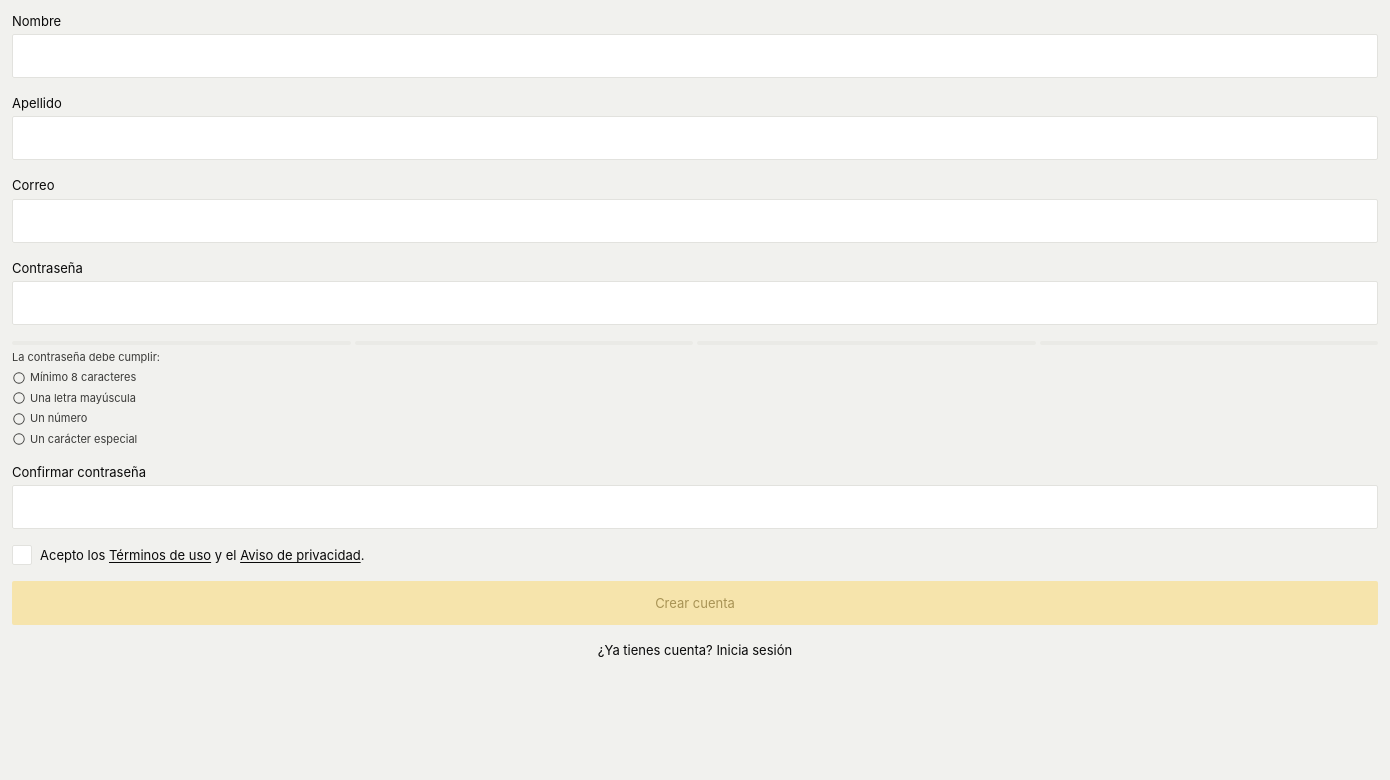
Test: CustomerRegisterForm › surfaces the backend's error message without switching to the verification screen
Type "Ada" into the field labelled "Nombre" at (695, 56), box [12,34,1378,78]
Type "Lovelace" into the field labelled "Apellido" at (695, 138), box [12,116,1378,160]
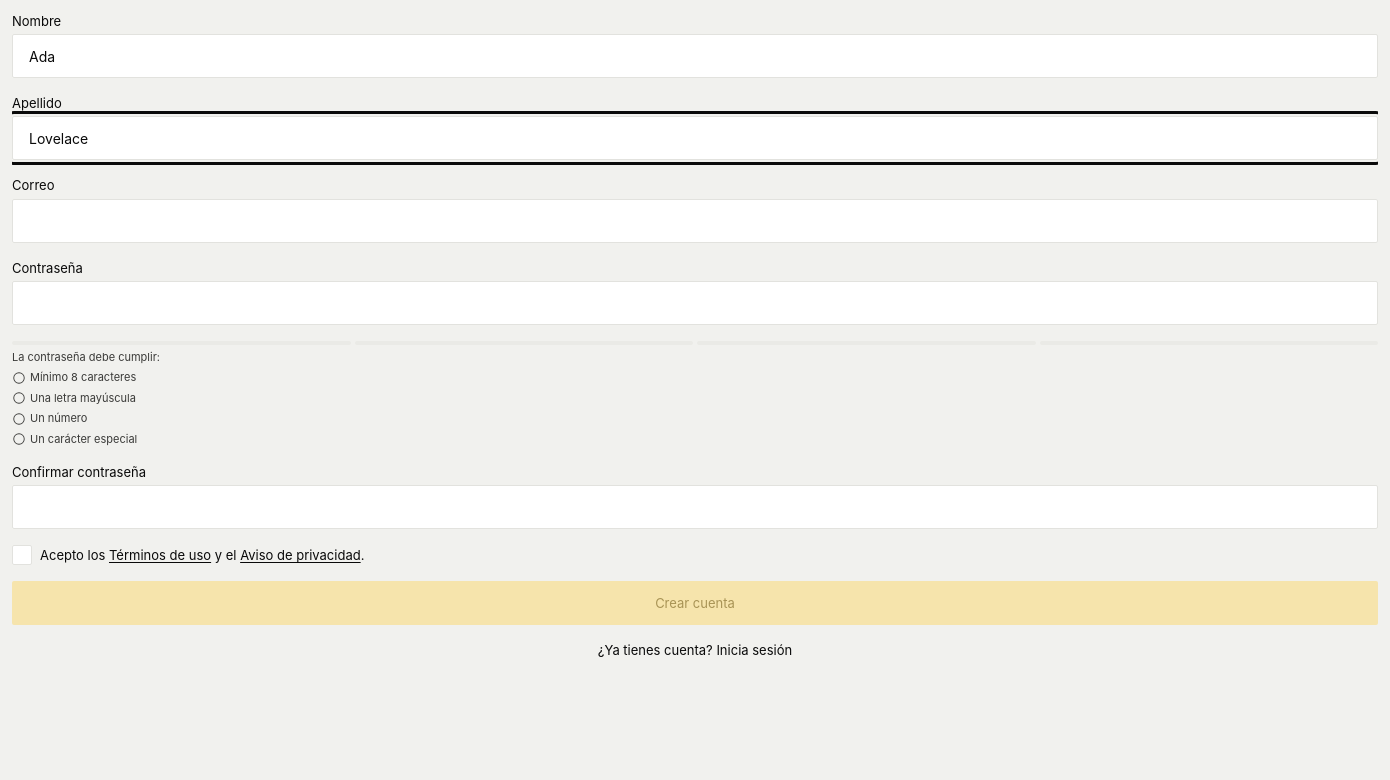
Type "ada@example.com" into the field labelled "Correo" at (695, 221), box [12,199,1378,243]
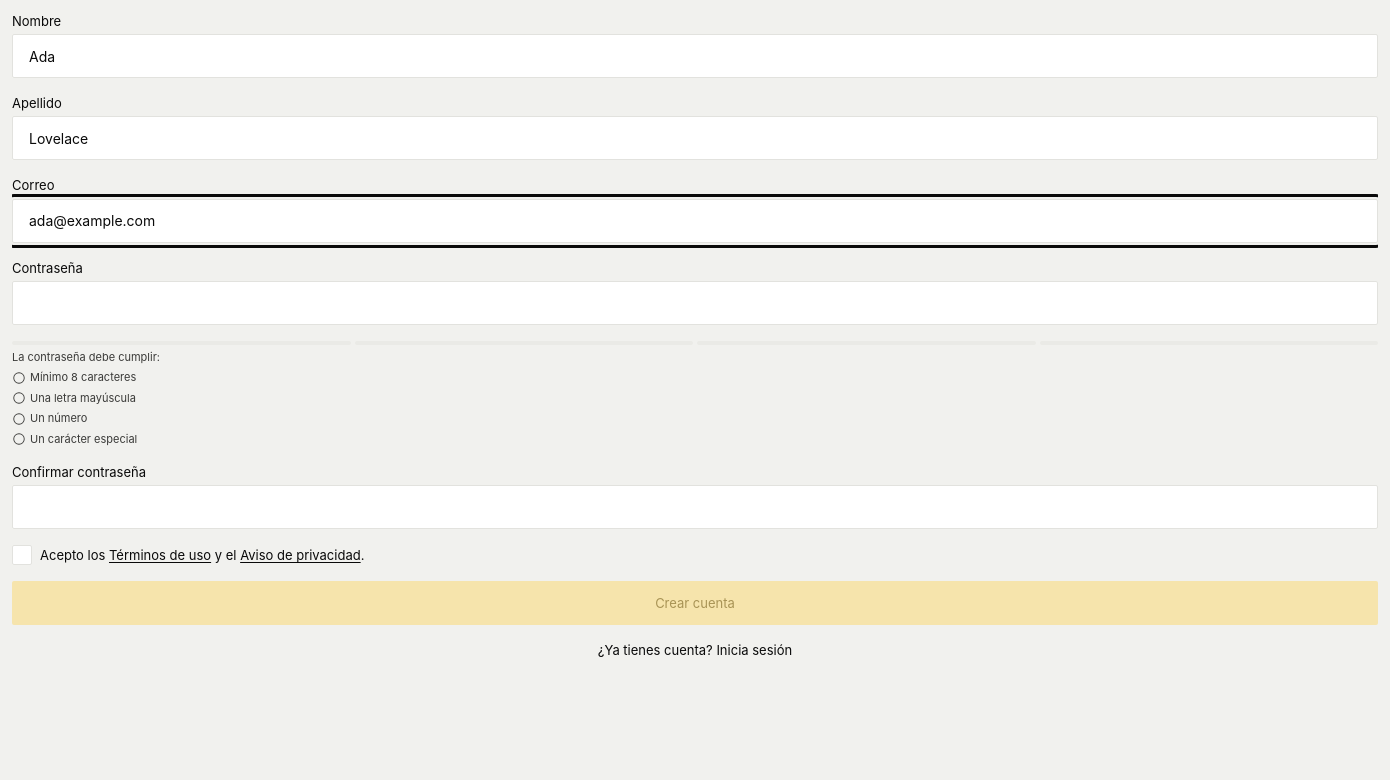
Type "Super-Secreta1" into the password field labelled "Contraseña" at (695, 303), box [12,281,1378,325]
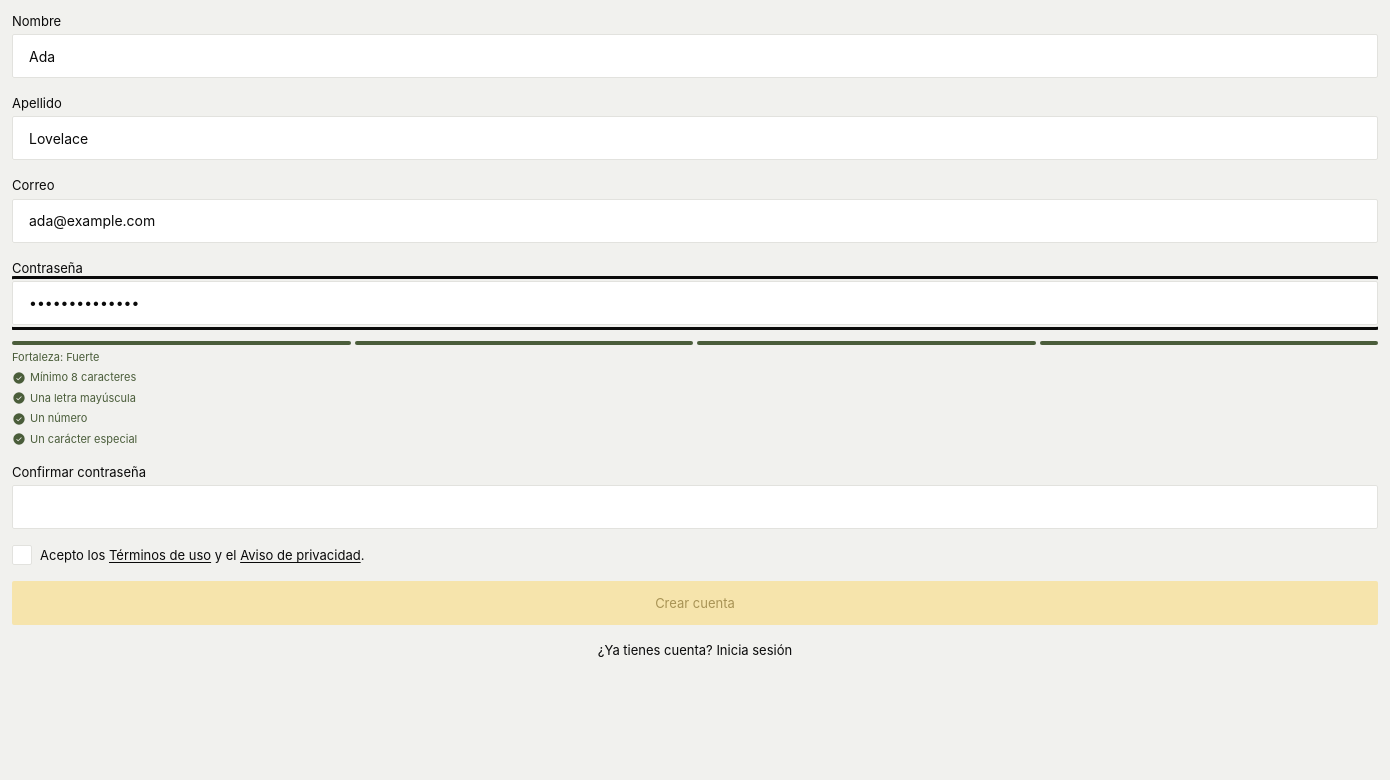
Type "Super-Secreta1" into the password field labelled "Confirmar contraseña" at (695, 507), box [12,485,1378,529]
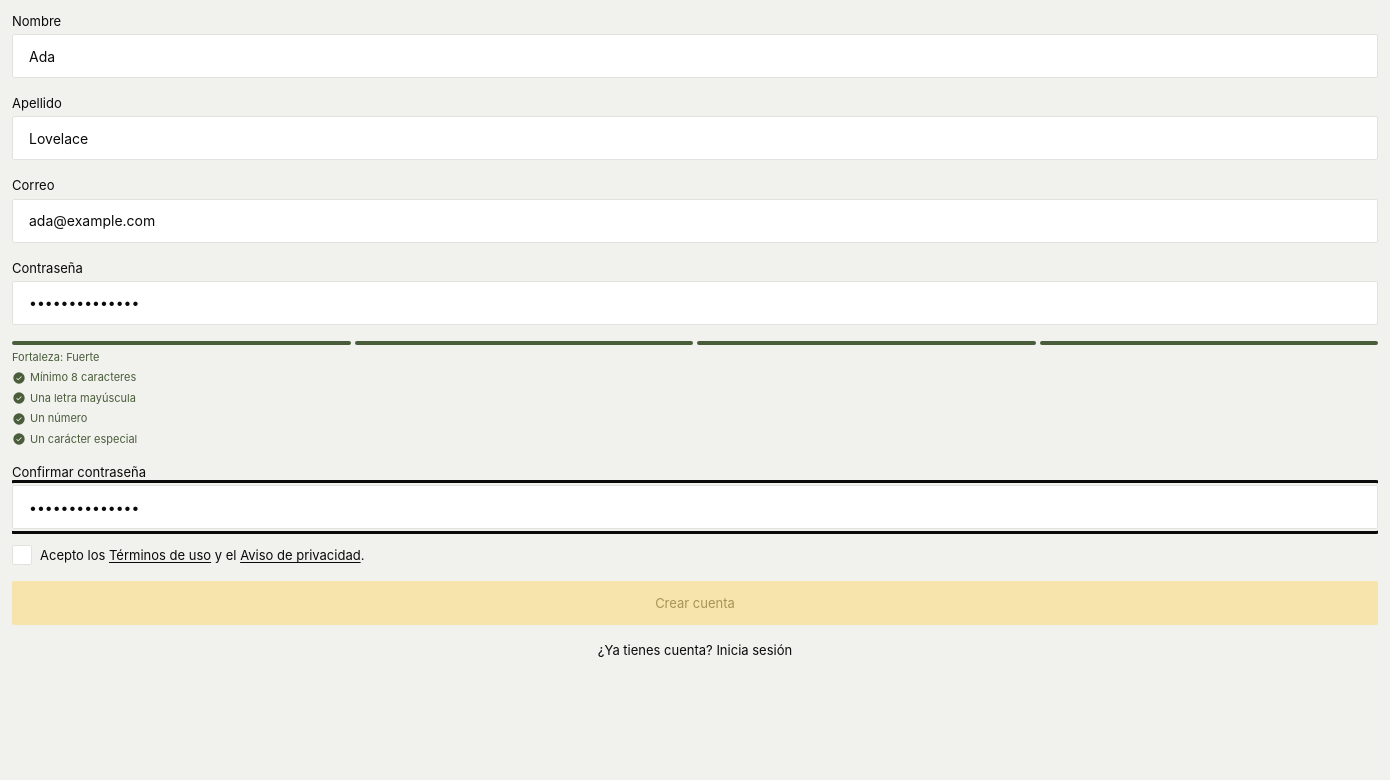
Click the checkbox labelled "Acepto los Términos de uso y el Aviso de privacidad ." at (188, 555), box [12,545,364,565]
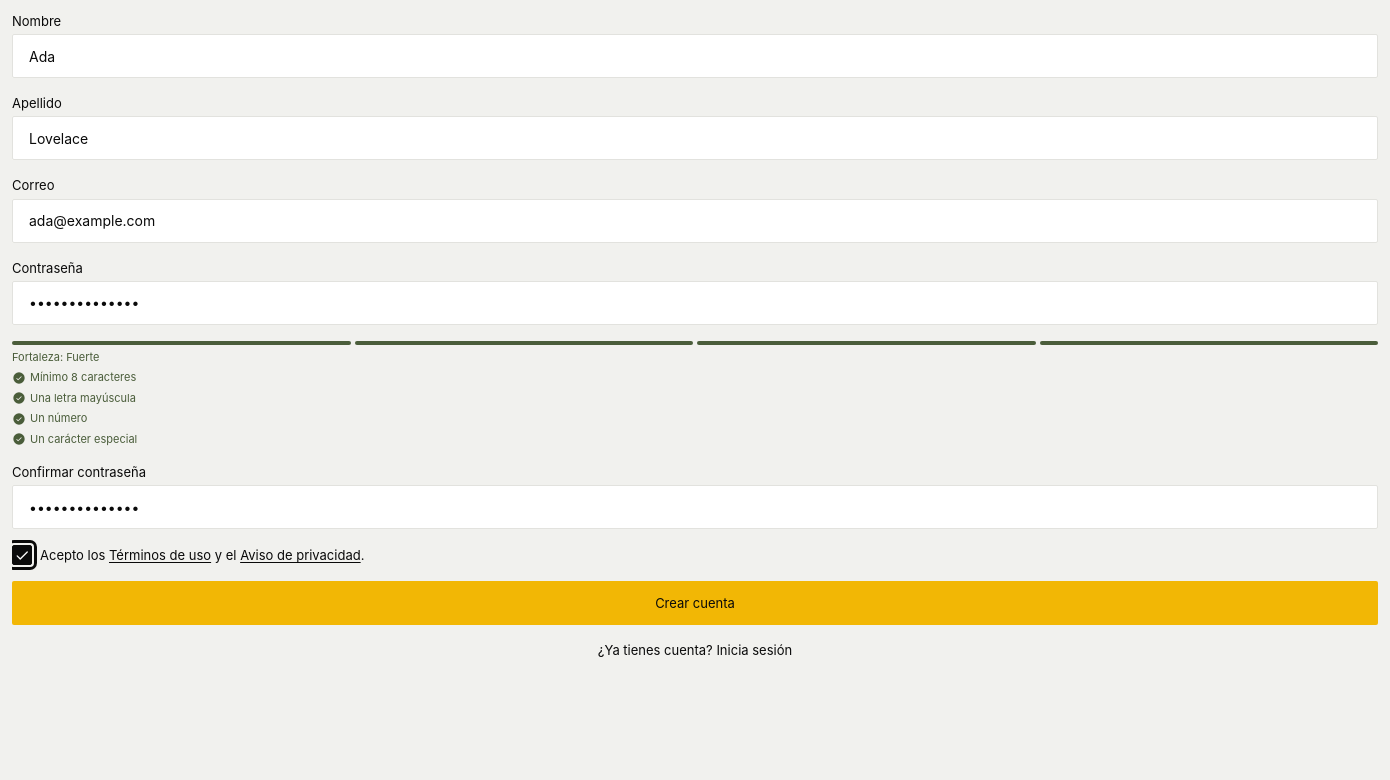
Click the button named "Crear cuenta" at (695, 603), box [12,581,1378,625]
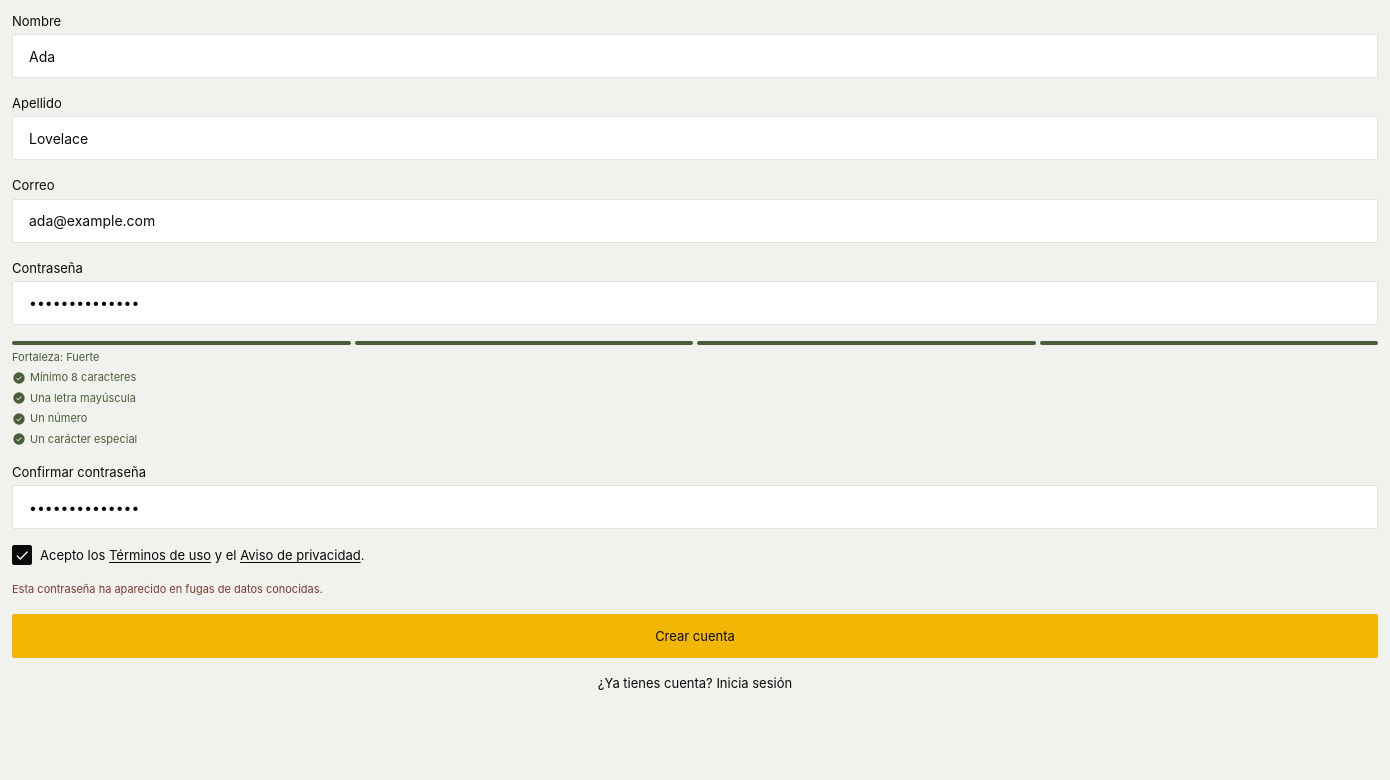
Result: the text "Esta contraseña ha aparecido en fugas de datos conocidas." is shown at [12,582,323,596]
